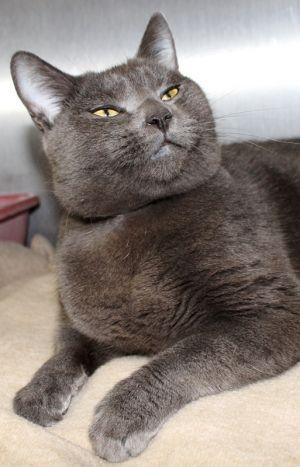rblue: (8, 15, 221, 230)
